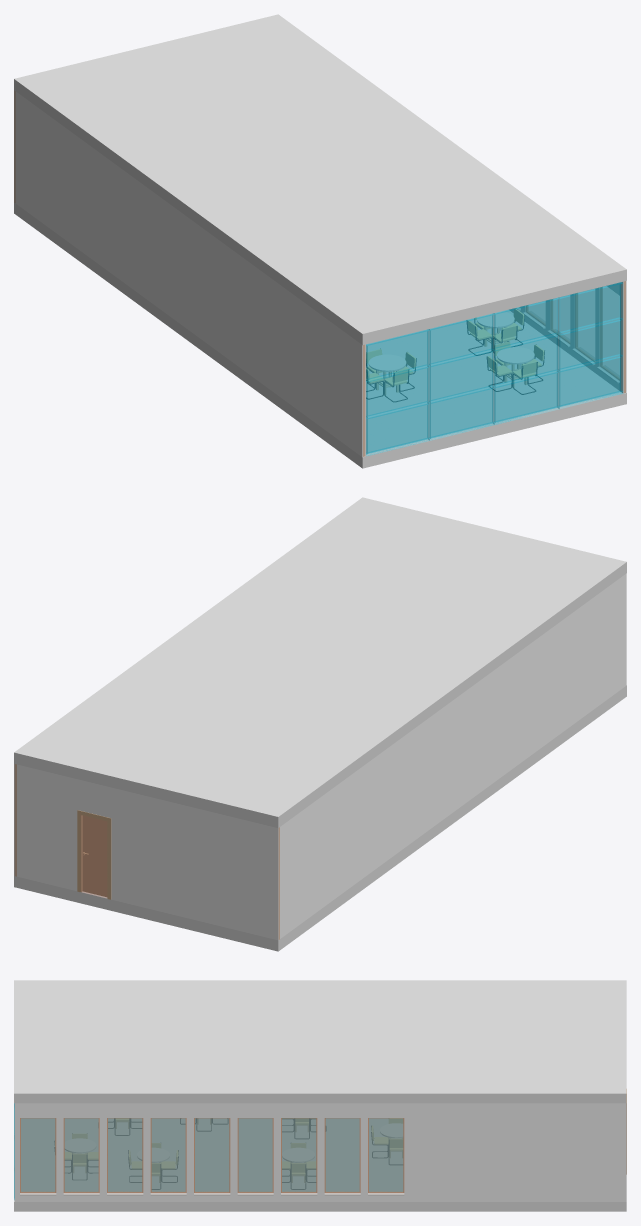
File: cafe.glb
3 renders of one model, top to bottom at view 1: azimuth 30°, elevation 25°; view 2: azimuth 150°, elevation 25°; view 3: azimuth 270°, elevation 25°, orthographic. The views are drawn at different scales.
Parts seen in each view (by area): view 1: IFC IfcSlab 20, IFC IfcWallStandardCase 159, IFC IfcSlab 175, IFC IfcSpace 13926, IFC IfcPlate 13294, IFC IfcPlate 13120, IFC IfcPlate 13185, IFC IfcPlate 13282, IFC IfcPlate 13330, IFC IfcPlate 13173, IFC IfcPlate 13141, IFC IfcPlate 13197 (+7 smaller); view 2: IFC IfcSlab 20, IFC IfcWallStandardCase 159, IFC IfcWallStandardCase 143, IFC IfcSlab 175, IFC IfcDoor 10932 (×2), IFC IfcOpeningElement 13933; view 3: IFC IfcSlab 20, IFC IfcWallStandardCase 109, IFC IfcSlab 175, IFC IfcOpeningElement 14006, IFC IfcOpeningElement 14010, IFC IfcOpeningElement 14014, IFC IfcOpeningElement 14018, IFC IfcOpeningElement 14022, IFC IfcOpeningElement 14026, IFC IfcOpeningElement 14042, IFC IfcOpeningElement 14056, IFC IfcOpeningElement 14065 (+11 smaller).
Boxes of the visible parts, <box> form: IFC IfcSlab 20: <box>14,14,626,345</box>; IFC IfcWallStandardCase 159: <box>16,92,362,456</box>; IFC IfcSlab 175: <box>14,202,626,468</box>; IFC IfcSpace 13926: <box>368,285,618,451</box>; IFC IfcPlate 13294: <box>494,372,557,421</box>; IFC IfcPlate 13120: <box>494,335,557,384</box>; IFC IfcPlate 13185: <box>494,299,557,348</box>; IFC IfcPlate 13282: <box>430,388,492,437</box>; IFC IfcPlate 13330: <box>430,351,492,400</box>; IFC IfcPlate 13173: <box>430,314,492,363</box>; IFC IfcPlate 13141: <box>559,320,620,369</box>; IFC IfcPlate 13197: <box>559,283,620,332</box>; IFC IfcSlab 20: <box>14,497,626,828</box>; IFC IfcWallStandardCase 159: <box>280,573,626,938</box>; IFC IfcWallStandardCase 143: <box>17,765,278,940</box>; IFC IfcSlab 175: <box>14,685,626,951</box>; IFC IfcDoor 10932 (×2): <box>77,810,111,899</box>; IFC IfcOpeningElement 13933: <box>80,815,107,898</box>; IFC IfcSlab 20: <box>14,980,626,1103</box>; IFC IfcWallStandardCase 109: <box>14,1103,626,1201</box>; IFC IfcSlab 175: <box>14,1104,626,1211</box>; IFC IfcOpeningElement 14006: <box>325,1118,360,1192</box>; IFC IfcOpeningElement 14010: <box>368,1118,403,1192</box>; IFC IfcOpeningElement 14014: <box>194,1118,229,1192</box>; IFC IfcOpeningElement 14018: <box>238,1118,273,1192</box>; IFC IfcOpeningElement 14022: <box>281,1118,316,1192</box>; IFC IfcOpeningElement 14026: <box>107,1118,142,1192</box>; IFC IfcOpeningElement 14042: <box>151,1118,186,1192</box>; IFC IfcOpeningElement 14056: <box>20,1118,55,1192</box>; IFC IfcOpeningElement 14065: <box>64,1118,99,1192</box>.
Size of the model in its own units: 7.47 by 3.6 by 16.91.
